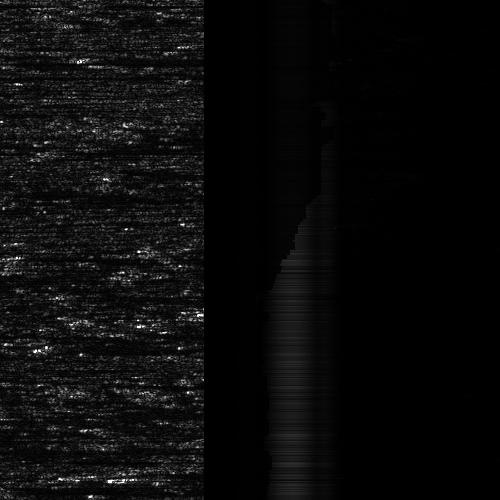rock: (0, 144, 123, 155)
shadow: (51, 144, 217, 155)
